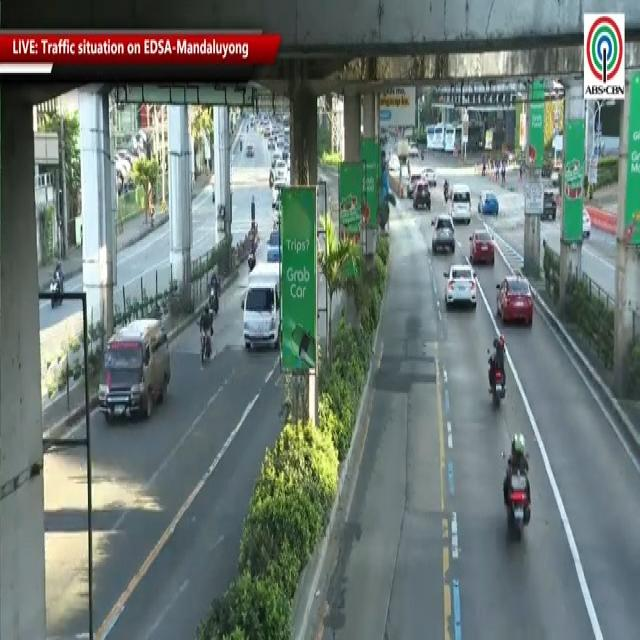car: (95, 322, 172, 426), (494, 270, 536, 329), (445, 267, 479, 313), (466, 224, 495, 272), (447, 182, 471, 230), (431, 215, 457, 258), (413, 180, 437, 213), (479, 185, 499, 220)
motorbike: (500, 431, 532, 543), (487, 334, 508, 412), (198, 297, 215, 369), (207, 268, 222, 322), (52, 259, 64, 309), (248, 234, 258, 274)
truck: (243, 261, 282, 351)
